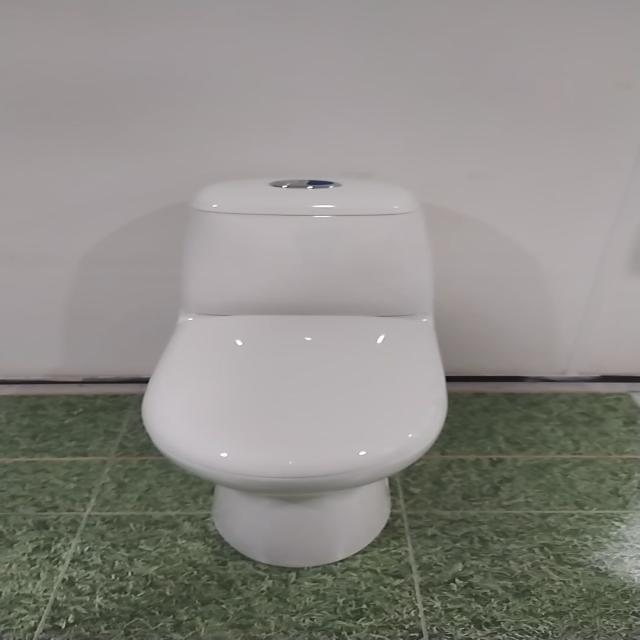toilet: (139, 176, 449, 568)
